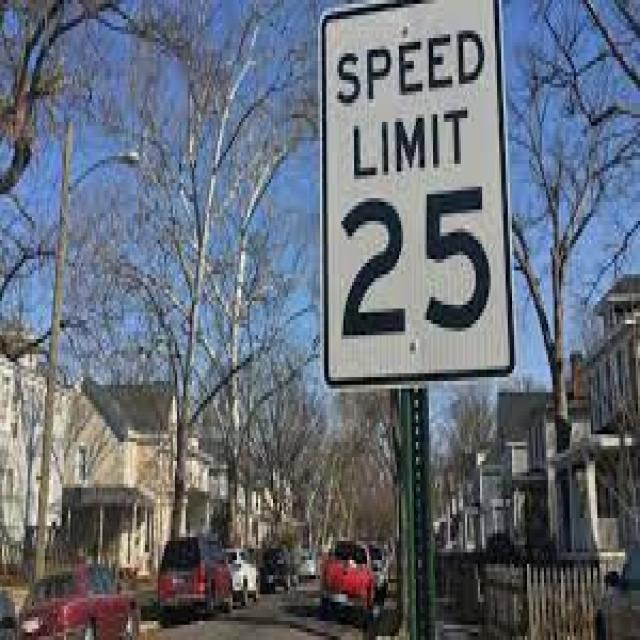speedLimit25: (316, 2, 501, 413)
